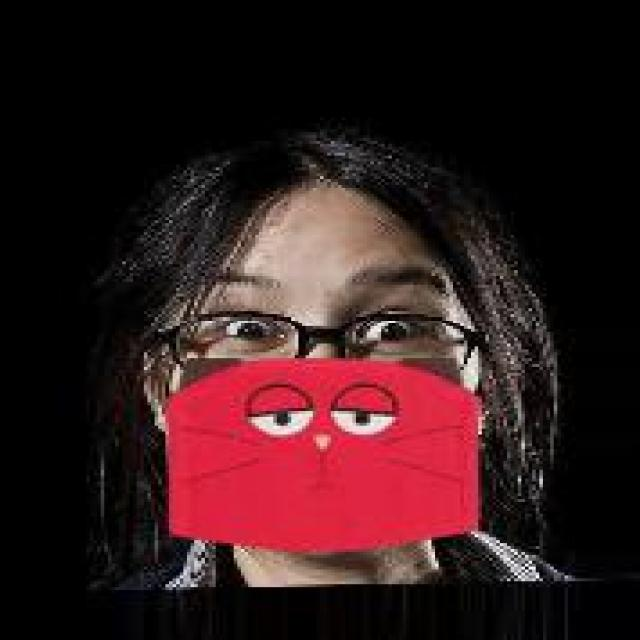mask: (87, 106, 576, 566)
